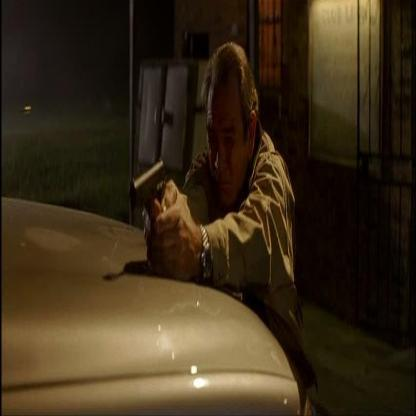gun: (122, 153, 181, 243)
